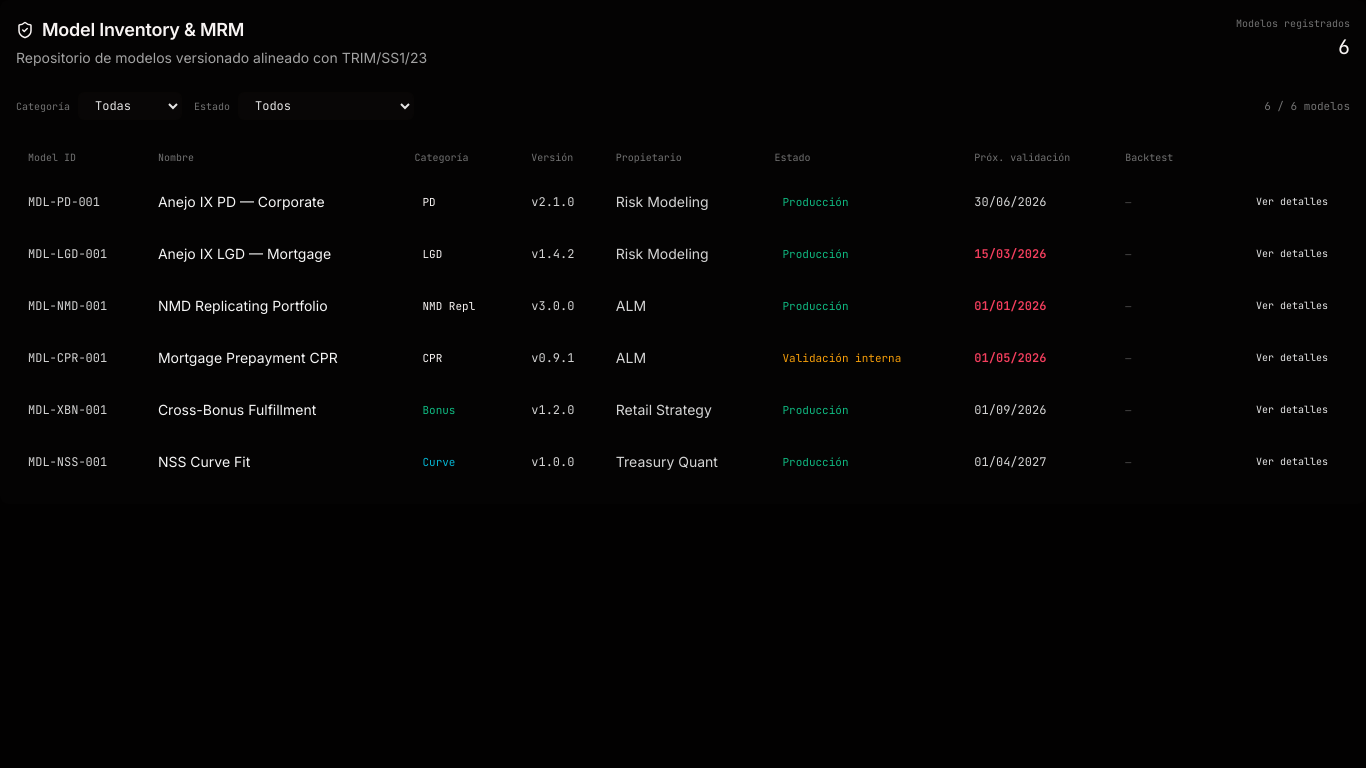
Test case: ModelInventoryPanel › opens the details drawer for the selected model
Click the button "Ver detalles" in the row of "MDL-PD-001".
click(1292, 202)  # box [1246, 188, 1338, 216]
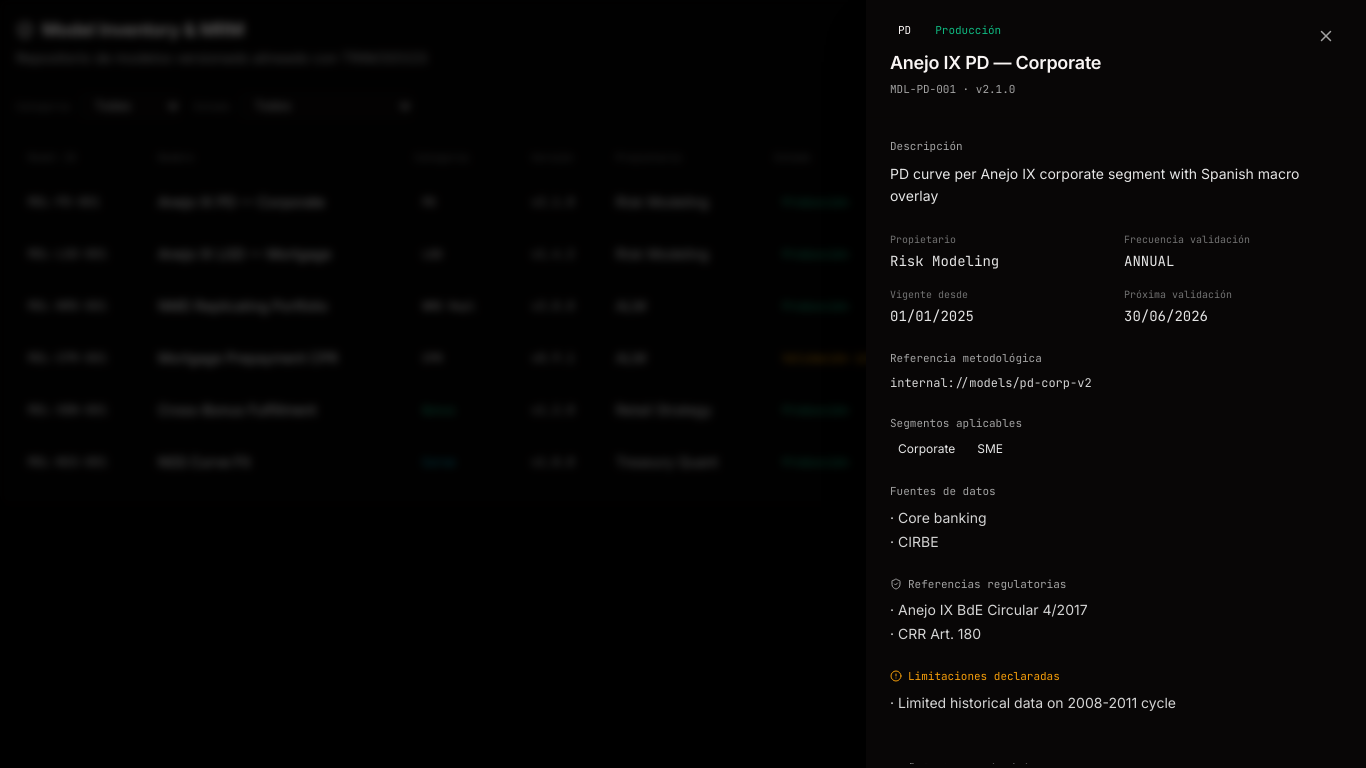
Expected: the dialog named "detalles del modelo anejo ix pd" is shown
Expected: the heading "Referencia metodológica" is shown, [890, 351, 1042, 365]
Expected: the heading "Segmentos aplicables" is shown, [890, 416, 1022, 430]
